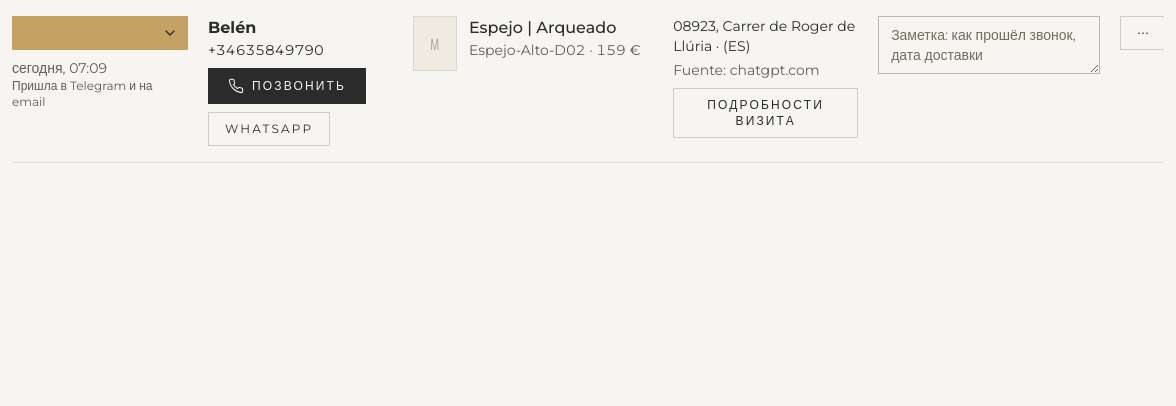
it: Подробности визита › shows the whole entry link as text, and the page that sent it
Click the button "Подробности визита".
click(766, 113)  # box left=673, top=88, right=858, bottom=138
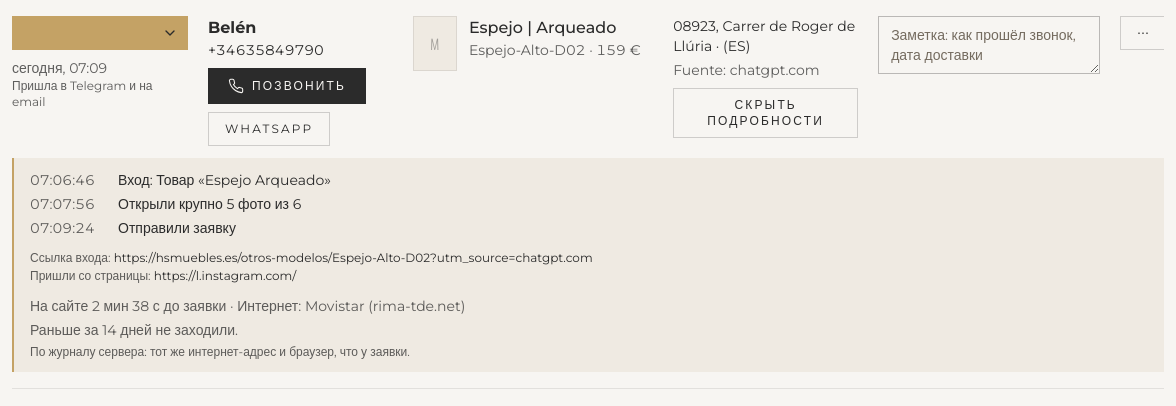
Check: the text "https://l.instagram.com/" reads "Пришли со страницы: https://l.instagram.com/", box left=30, top=268, right=296, bottom=283
